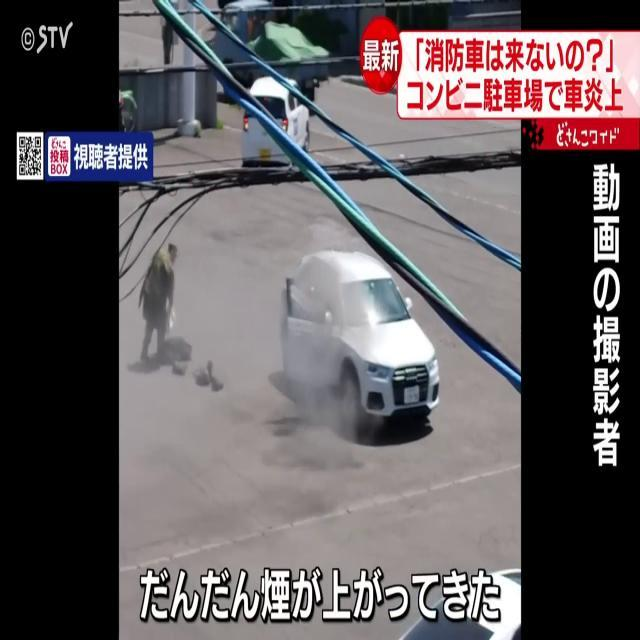Smoke: (277, 243, 365, 457)
